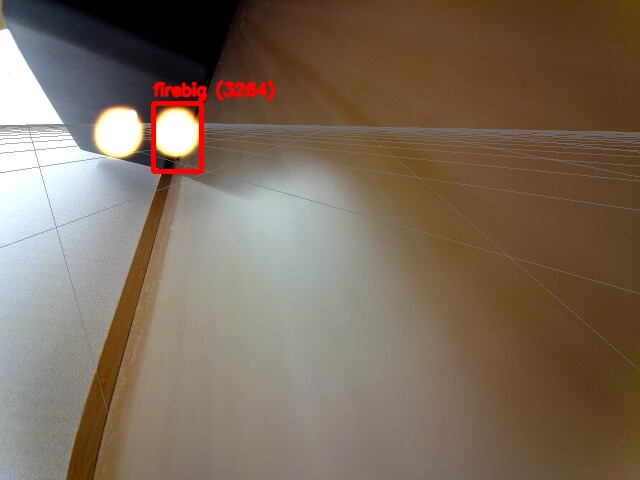firebig: (153, 103, 201, 171)
